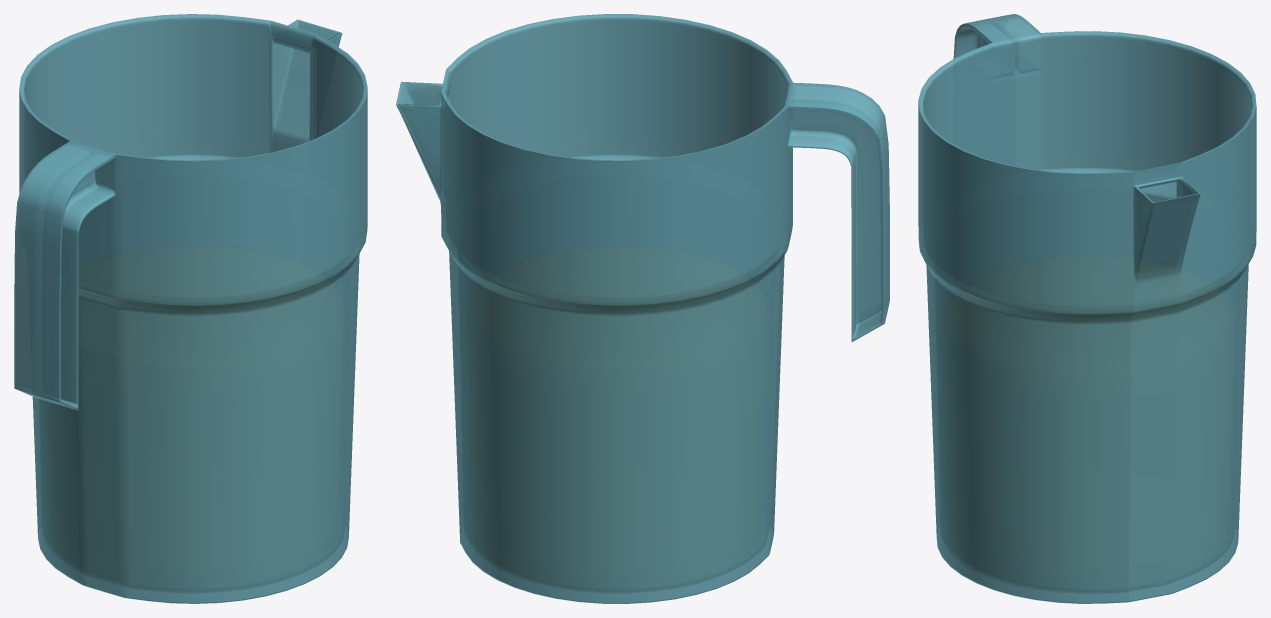
Rendered from plasticJug_01_ah.fbx.
The picture shows the model from 3 angles, left to right: view 1: azimuth 30°, elevation 25°; view 2: azimuth 150°, elevation 25°; view 3: azimuth 270°, elevation 25°; orthographic projection. The views are drawn at different scales.
Visible parts, largest first — view 1: plasticJug; view 2: plasticJug; view 3: plasticJug.
Boxes of the visible parts, x1,y1,x2,y2 form: plasticJug: (14, 14, 367, 603); plasticJug: (396, 14, 889, 603); plasticJug: (918, 14, 1256, 603).
Bounding box in the file's own units: 0.9973 × 1.06 × 0.741.
